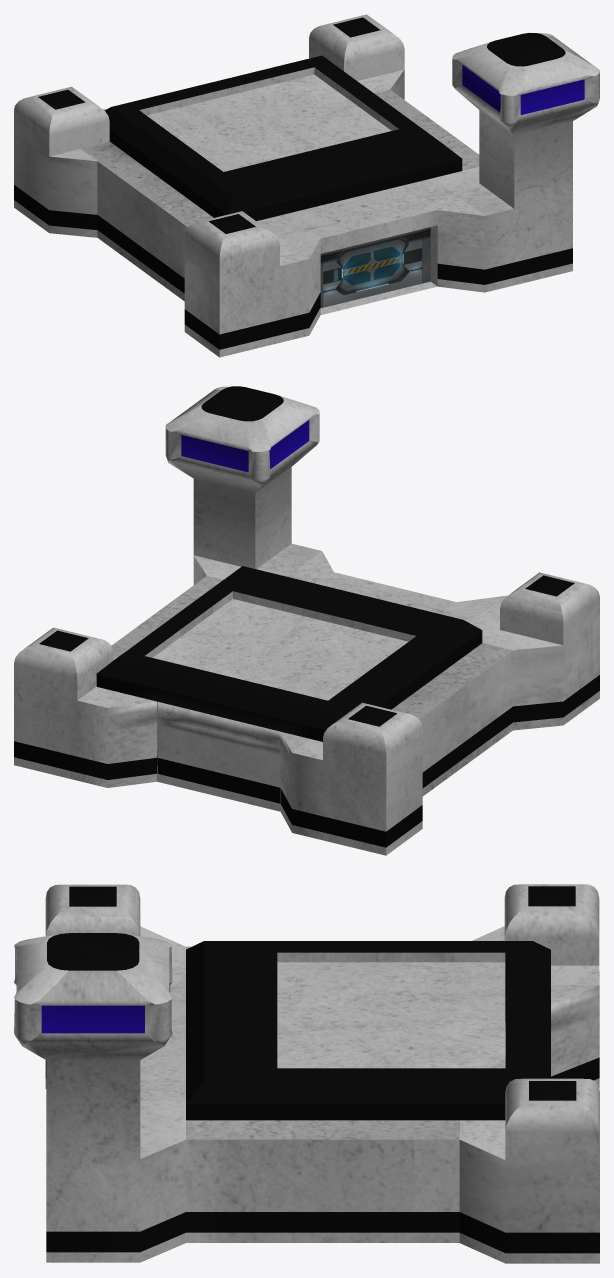
The model's file is bunker2.fbx.
3 views of the same model, one above another, from view 1: azimuth 30°, elevation 25°; view 2: azimuth 150°, elevation 25°; view 3: azimuth 270°, elevation 25° (orthographic). The views are drawn at different scales.
Visible parts, largest first — view 1: pCube1; view 2: pCube1; view 3: pCube1.
Boxes of the visible parts, x1=… form: pCube1: x1=14, y1=14, x2=599, y2=357; pCube1: x1=14, y1=386, x2=599, y2=855; pCube1: x1=14, y1=884, x2=599, y2=1263.
Size of the model in its own units: 25.57 by 14.09 by 25.68.
